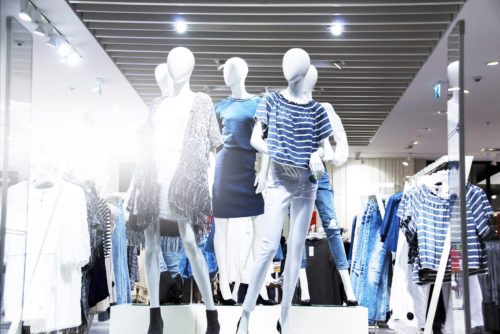person-like: (238, 44, 335, 334), (137, 44, 227, 334), (296, 63, 358, 307), (208, 55, 264, 307), (144, 61, 172, 120)
